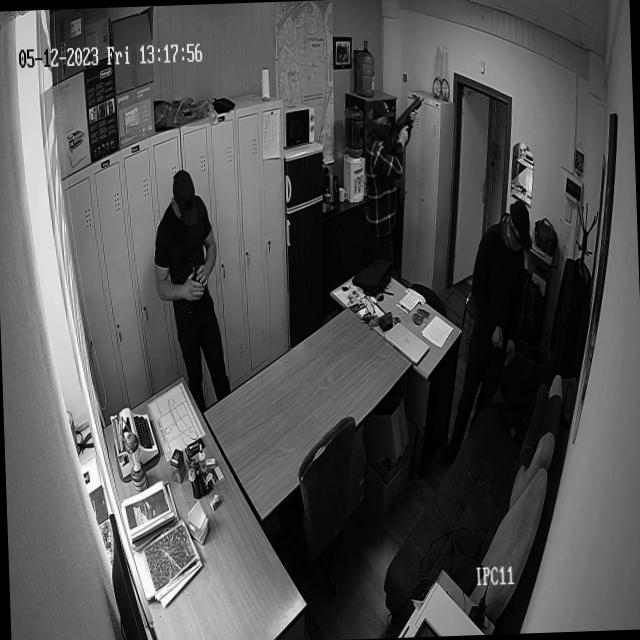gun: (380, 95, 426, 148)
person: (434, 198, 539, 470), (151, 168, 232, 410)
person with a gun: (361, 95, 431, 271)
